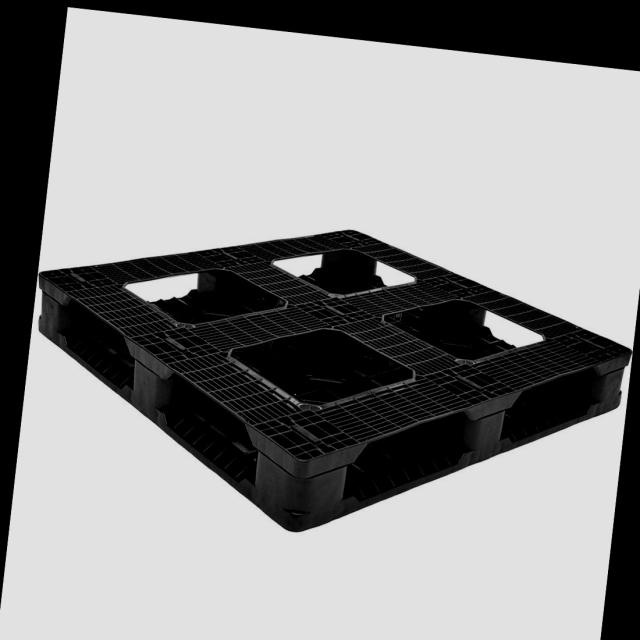non-igps: (36, 226, 640, 534)
